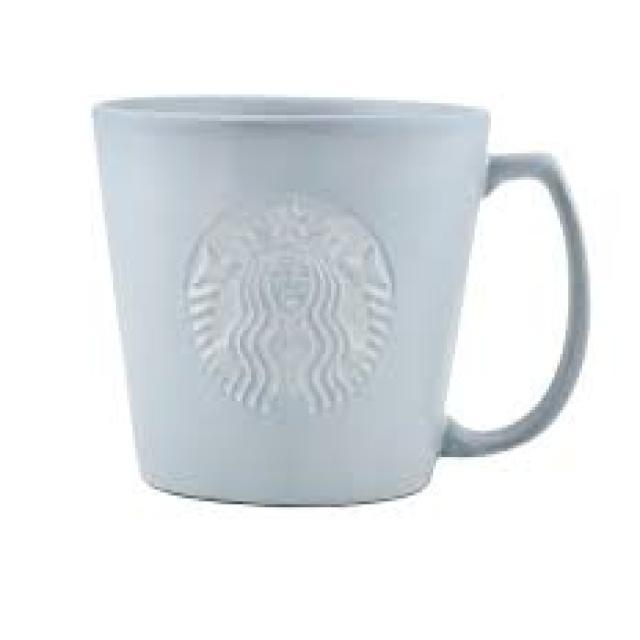taza: (89, 98, 592, 512)
